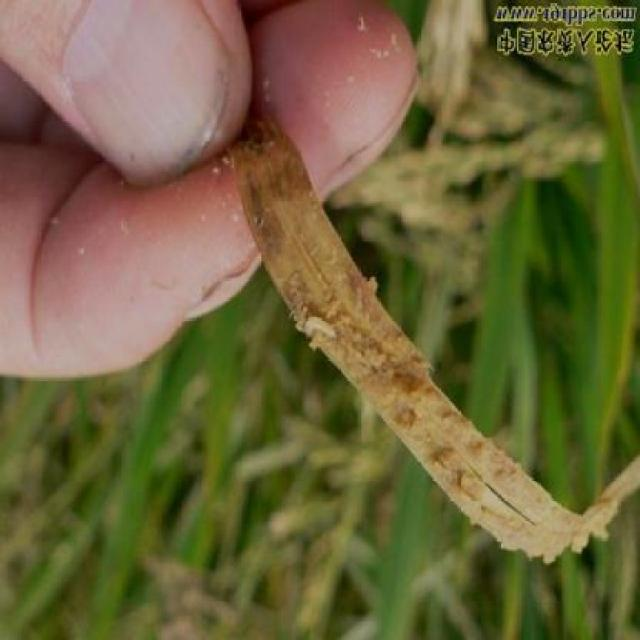whorl-maggot: (302, 309, 343, 351)
